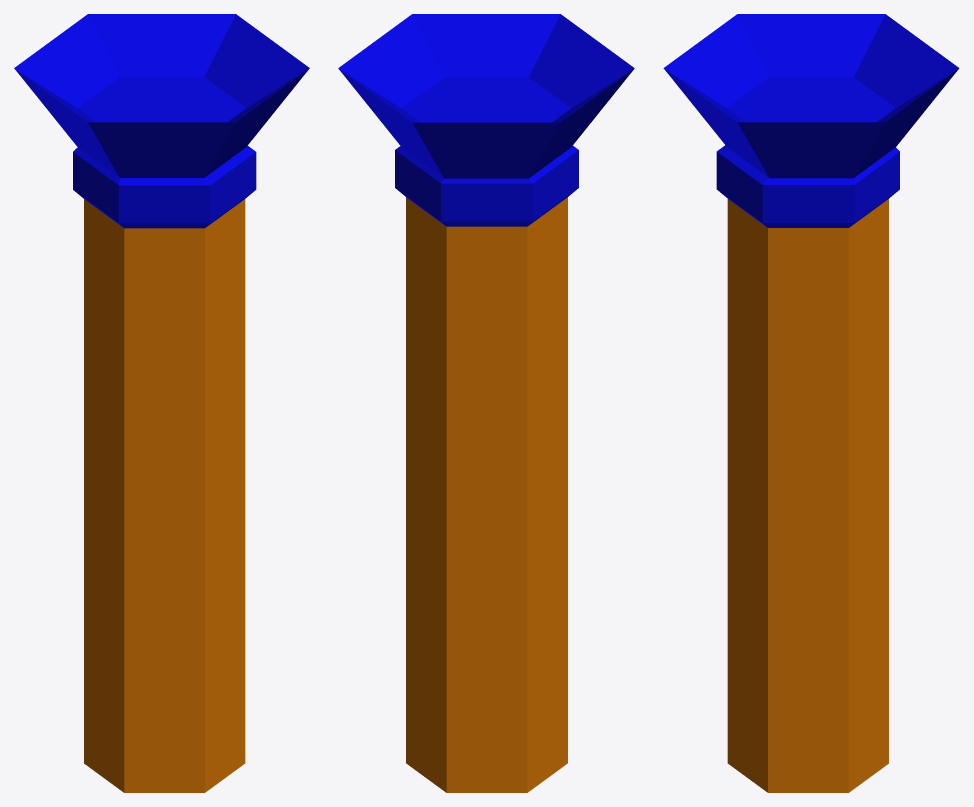
Rendered from dart.fbx.
The picture shows the model from 3 angles, left to right: view 1: azimuth 30°, elevation 25°; view 2: azimuth 150°, elevation 25°; view 3: azimuth 270°, elevation 25°; orthographic projection.
Parts seen in each view (by area): view 1: Cylinder; view 2: Cylinder; view 3: Cylinder.
Boxes of the visible parts, box(x1,y1,x2,y2) form: Cylinder: box(14, 14, 309, 792); Cylinder: box(338, 14, 634, 792); Cylinder: box(663, 14, 959, 792).
Size of the model in its own units: 57.02 by 170 by 65.84.
